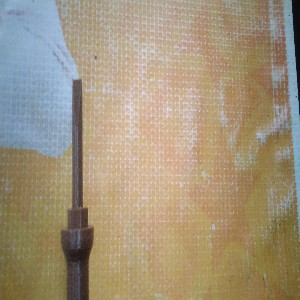obeng: (60, 77, 95, 300)
